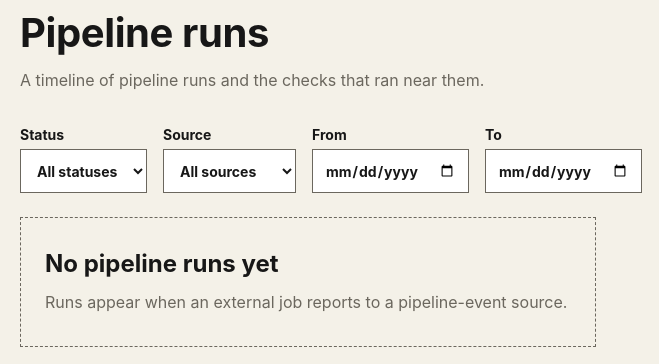
it: Pipeline runs page › explains an empty list and a filter with no matches
Expected: the heading "No pipeline runs yet" is shown, [45,250,279,278]
Select "Failed" in the dropdown labelled "Status": coordinates (84, 171) [20,149,147,193]
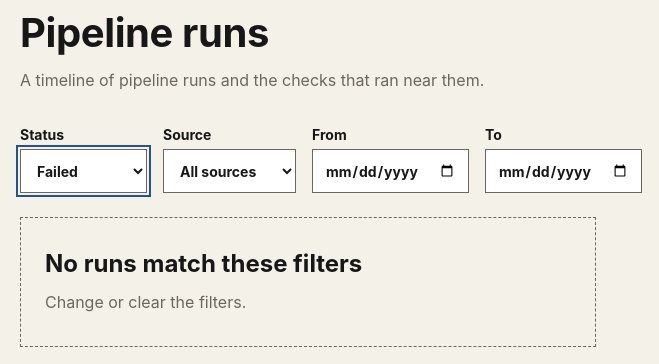
Result: the heading "No runs match these filters" is shown at [45,250,362,278]
